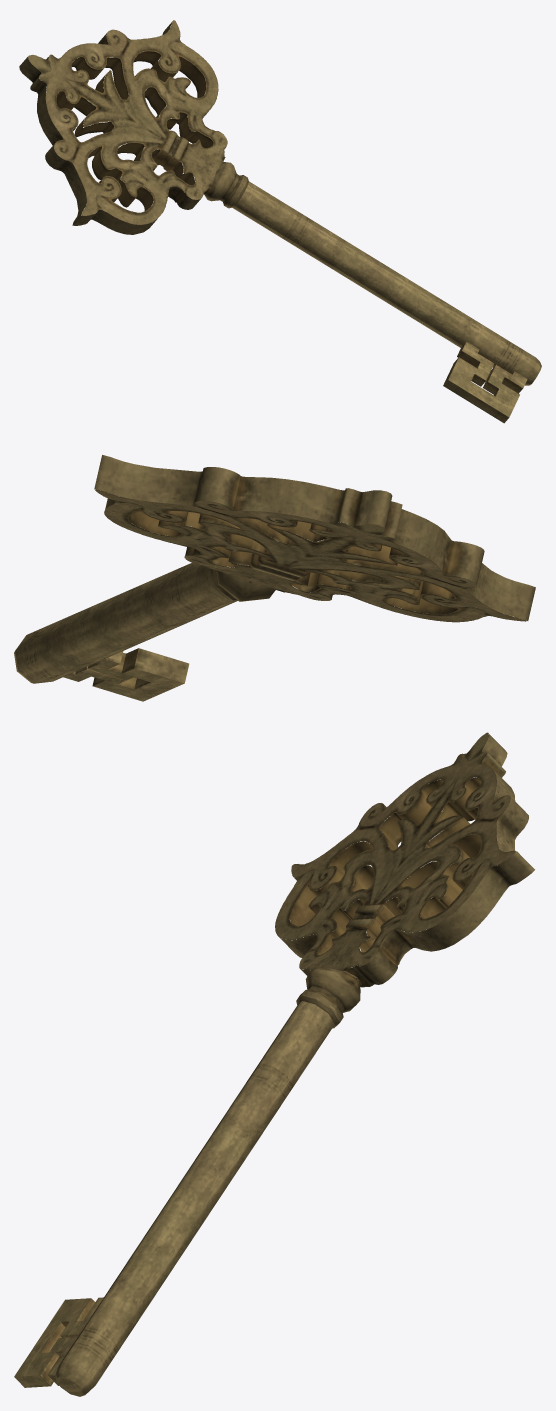
File: key.glb
3 views of the same model, one above another, from view 1: azimuth 30°, elevation 25°; view 2: azimuth 150°, elevation 25°; view 3: azimuth 270°, elevation 25° (orthographic). The views are drawn at different scales.
Visible parts, largest first — view 1: Key; view 2: Key; view 3: Key.
Boxes of the visible parts, left/top/right/bottom form: Key: left=19, top=20, right=541, bottom=423; Key: left=14, top=455, right=535, bottom=701; Key: left=14, top=732, right=534, bottom=1396.
Size of the model in its own units: 0.13 by 0.1039 by 0.1099.
1 material, 1 textured.
